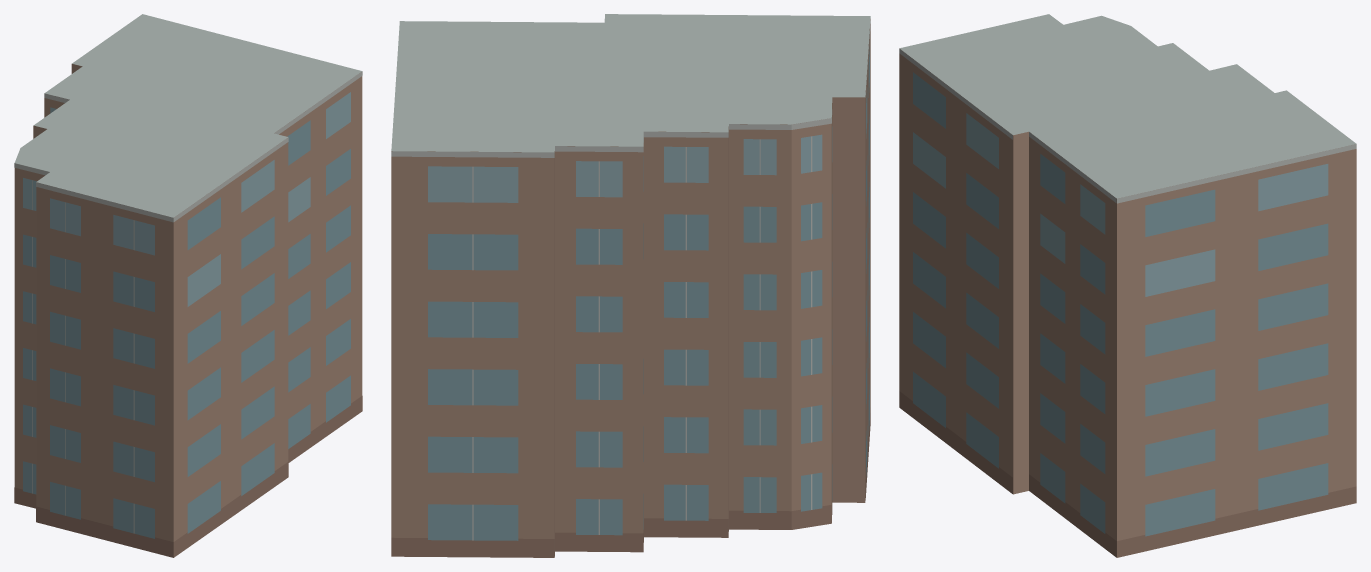
Rendered from survey-upis-33005454.glb.
The picture shows the model from 3 angles, left to right: view 1: azimuth 30°, elevation 25°; view 2: azimuth 150°, elevation 25°; view 3: azimuth 270°, elevation 25°; orthographic projection. The views are drawn at different scales.
Parts seen in each view (by area): view 1: survey-upis-33005454.tmp; view 2: survey-upis-33005454.tmp; view 3: survey-upis-33005454.tmp.
Part boxes in pixels (left/top/right/bottom): survey-upis-33005454.tmp: left=14, top=14, right=362, bottom=557; survey-upis-33005454.tmp: left=391, top=14, right=870, bottom=557; survey-upis-33005454.tmp: left=899, top=14, right=1356, bottom=557.
Size of the model in its own units: 19.69 by 17.85 by 20.61.
